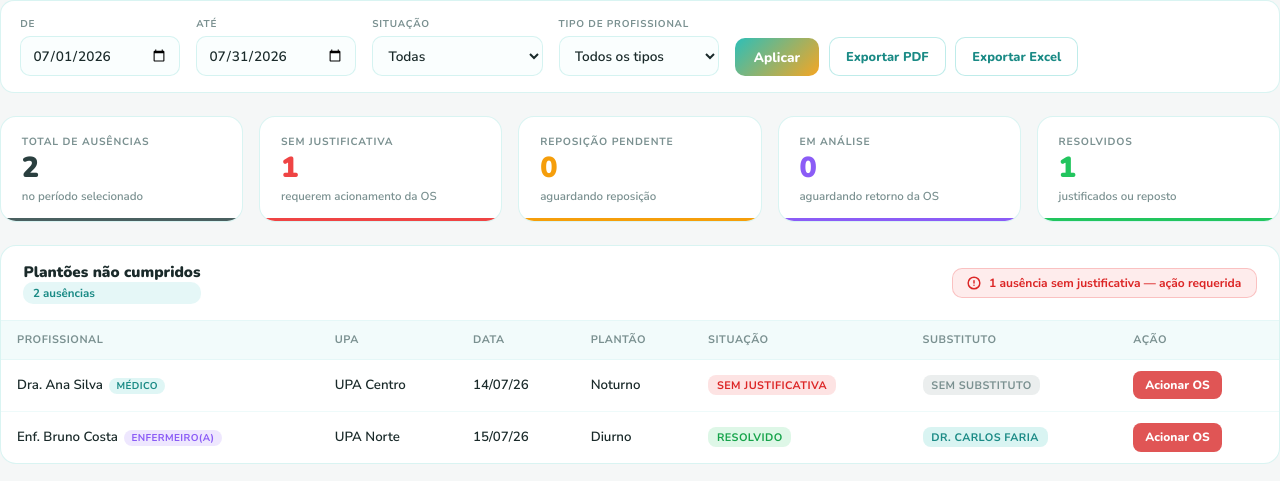
Test: <PrefeituraAusencias /> › filtra por tipo de profissional via select
Expected: the text "Dra. Ana Silva" is shown, [17,376,103,394]
Select "Enfermeiro(a)" in the dropdown labelled "Tipo de profissional" at coordinates (639, 56), box [559,36,719,76]
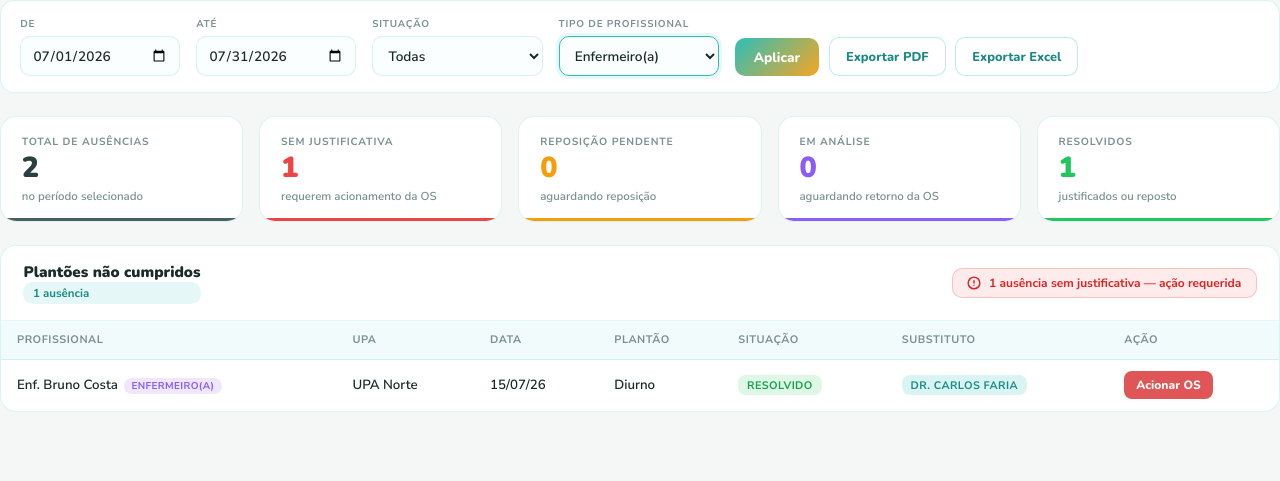
Expected: the text "Enf. Bruno Costa" is shown, [17,376,118,394]
Now the text "Dra. Ana Silva" is gone
